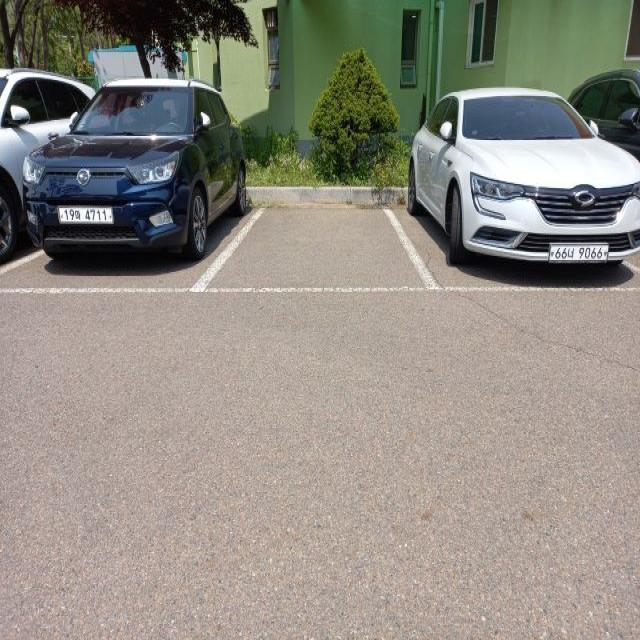empty: (192, 208, 441, 294)
occupied: (404, 87, 640, 284), (22, 78, 251, 270)
